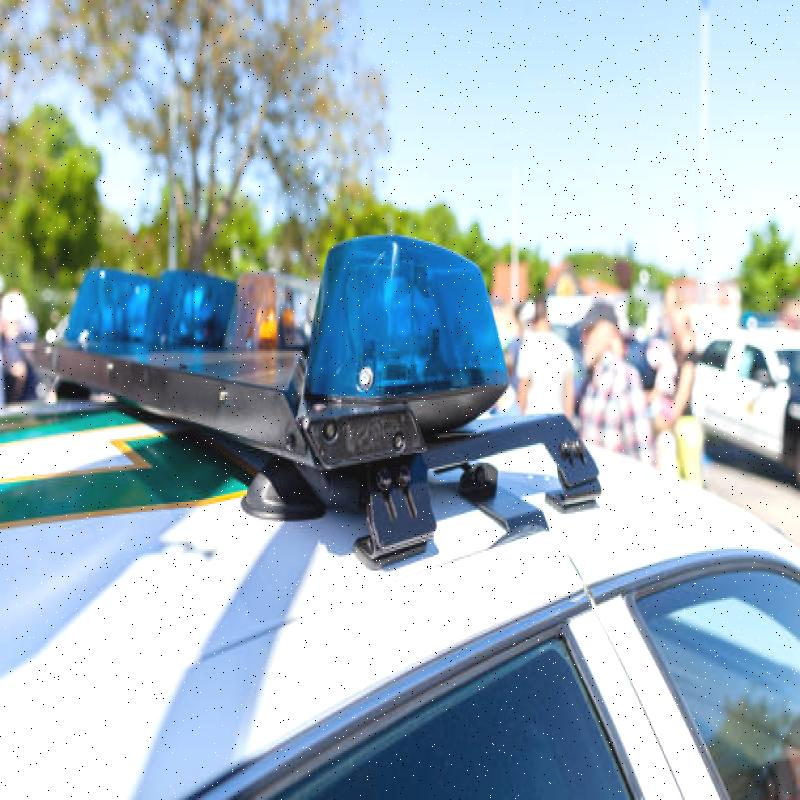AmbulanceSiren: (33, 214, 500, 493)
